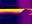Hotspot: (0, 9, 24, 14)
